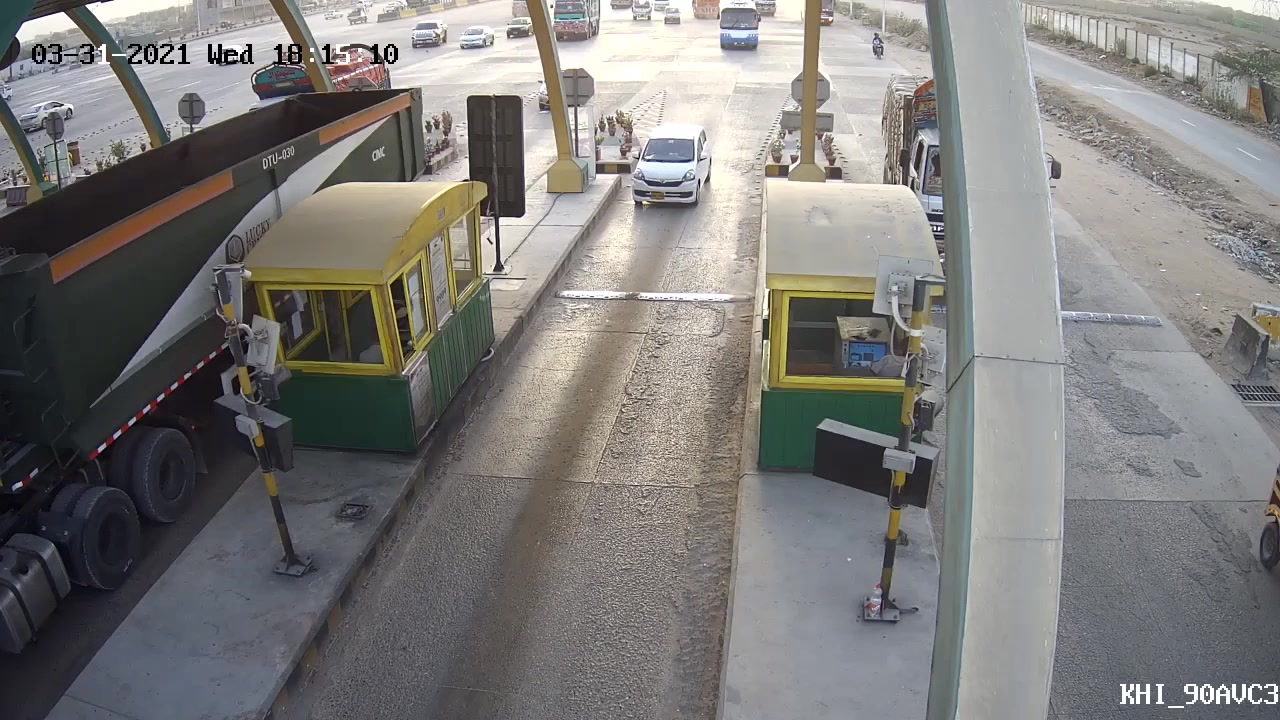F1: (626, 115, 721, 217)
